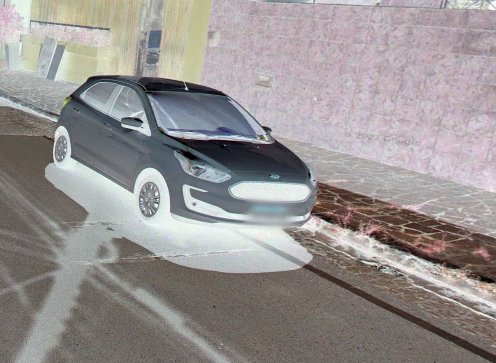car: (46, 64, 319, 239)
